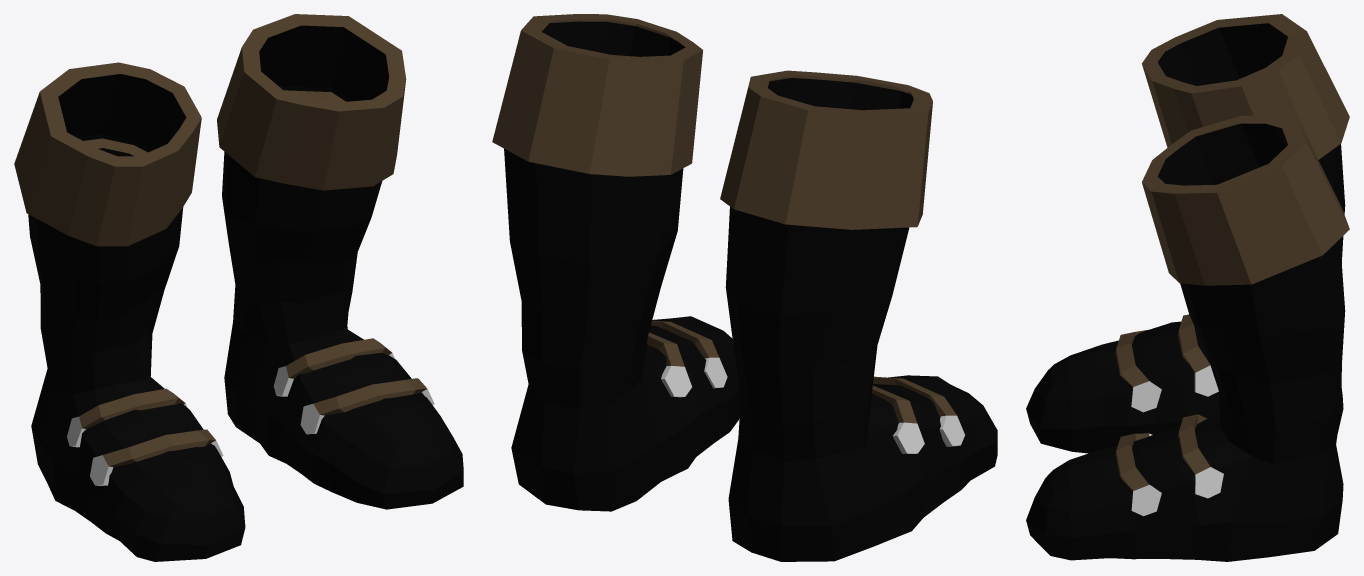
The model's file is Icon 2.fbx.
3 renders of one model, left to right at view 1: azimuth 30°, elevation 25°; view 2: azimuth 150°, elevation 25°; view 3: azimuth 270°, elevation 25°, orthographic. The views are drawn at different scales.
Parts seen in each view (by area): view 1: Leather 2 Shoes; view 2: Leather 2 Shoes; view 3: Leather 2 Shoes.
Boxes of the visible parts, x1,y1,x2,y2 form: Leather 2 Shoes: [14, 14, 463, 561]; Leather 2 Shoes: [492, 14, 997, 561]; Leather 2 Shoes: [1026, 14, 1349, 561].
Size of the model in its own units: 48.67 by 49.85 by 36.98.
